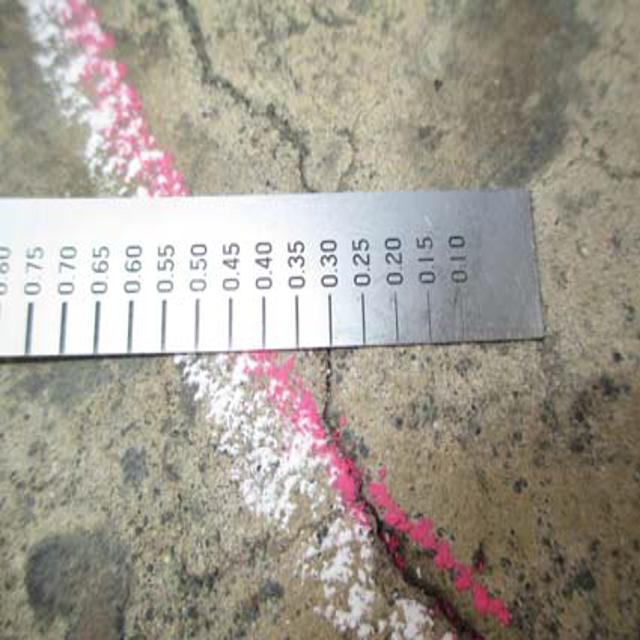crack: (313, 360, 518, 640), (167, 14, 347, 214)
